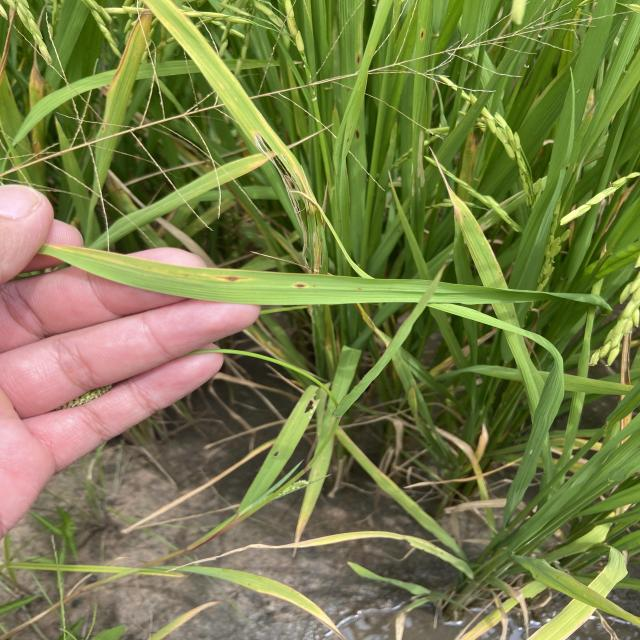Dao on: (209, 276, 255, 283), (292, 283, 309, 289)
